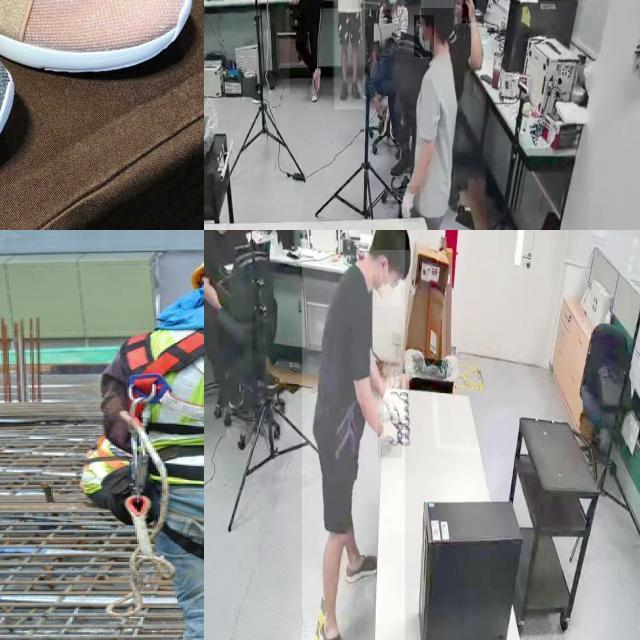Harness: (102, 326, 204, 572)
Sandals: (0, 0, 204, 103)
face_mask: (370, 267, 400, 306), (414, 15, 434, 57)
hand_glove: (379, 377, 407, 423), (378, 413, 402, 458), (399, 186, 421, 223)
hand_noglove: (461, 0, 476, 23), (289, 0, 299, 5)
head_nohelmet: (373, 230, 409, 251), (420, 0, 455, 9)
person: (302, 230, 405, 640), (395, 0, 486, 230), (204, 230, 252, 413), (289, 0, 332, 96), (334, 0, 365, 110)
shoes: (342, 548, 382, 585), (316, 614, 355, 640), (310, 65, 322, 94), (350, 76, 362, 102), (337, 77, 349, 101)
